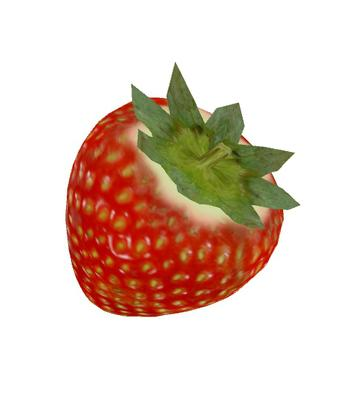strawberry: (0, 0, 345, 396)
